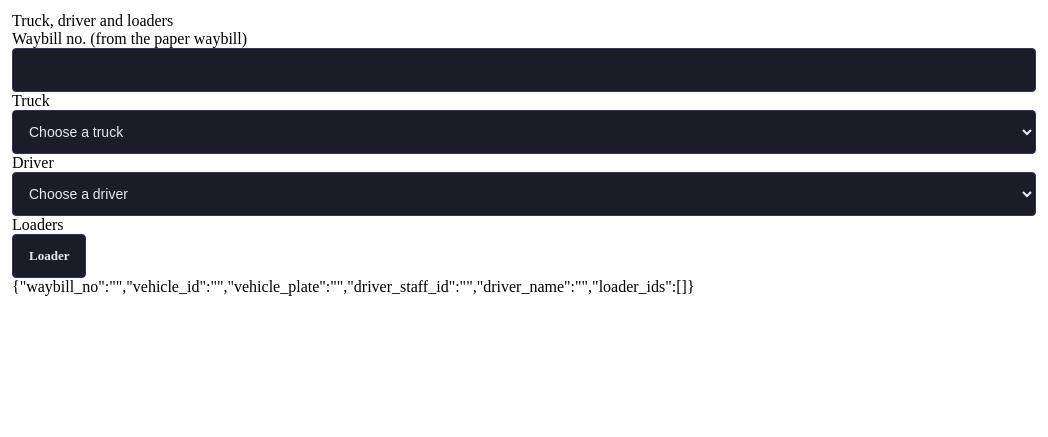
Scenario: preselects fleet driver, supports typed values and toggles loader chips
This screenshot has width=1048, height=437.
Step 1. Select "ABC" in the dropdown labelled "Truck" → x=524, y=132, box x1=12 y1=110 x2=1036 y2=154
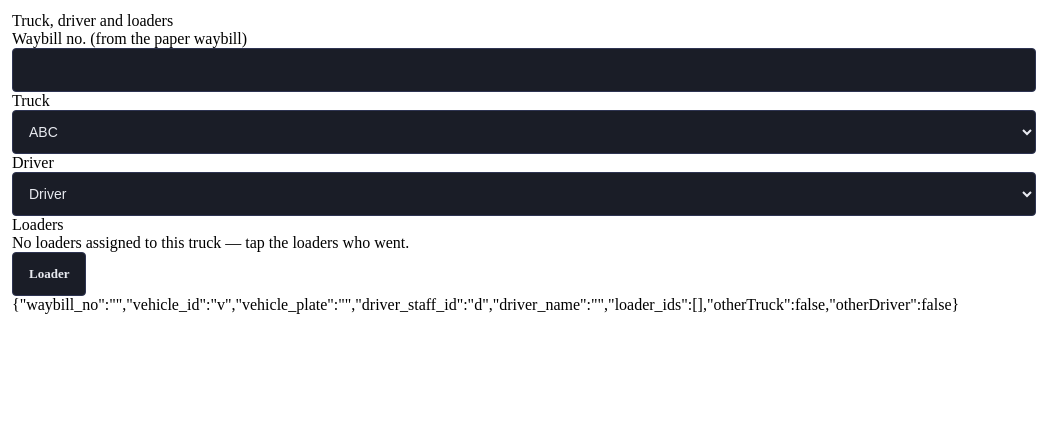
Now the dropdown labelled "Driver" shows "Driver", box x1=12 y1=172 x2=1036 y2=216
Step 2. Click the button "Loader" → x=49, y=274, box x1=12 y1=252 x2=86 y2=296
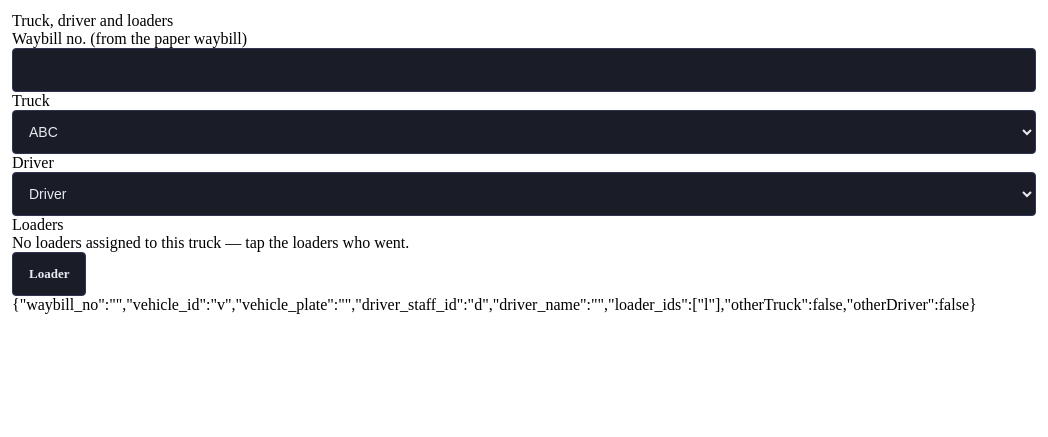
Step 3. Select "Other truck (type plate)" in the dropdown labelled "Truck" → x=524, y=132, box x1=12 y1=110 x2=1036 y2=154
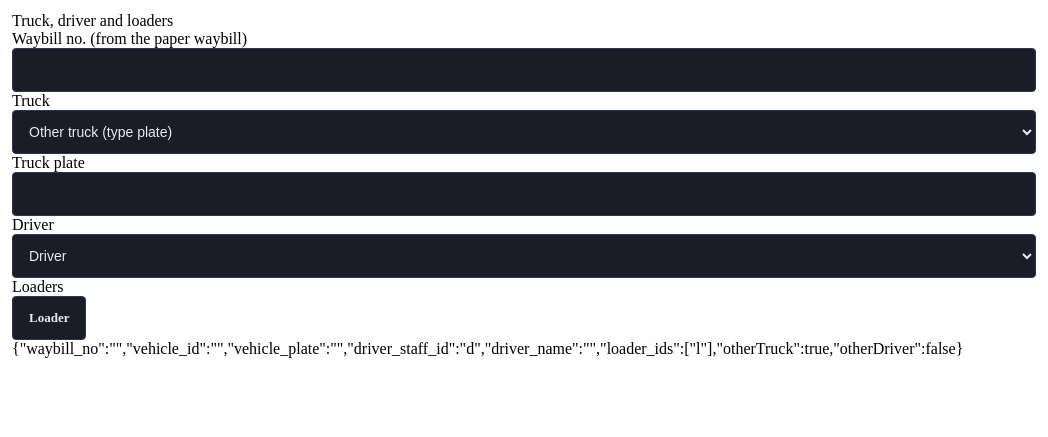
Step 4. Type "XYZ" into the field labelled "Truck plate" → x=524, y=194, box x1=12 y1=172 x2=1036 y2=216
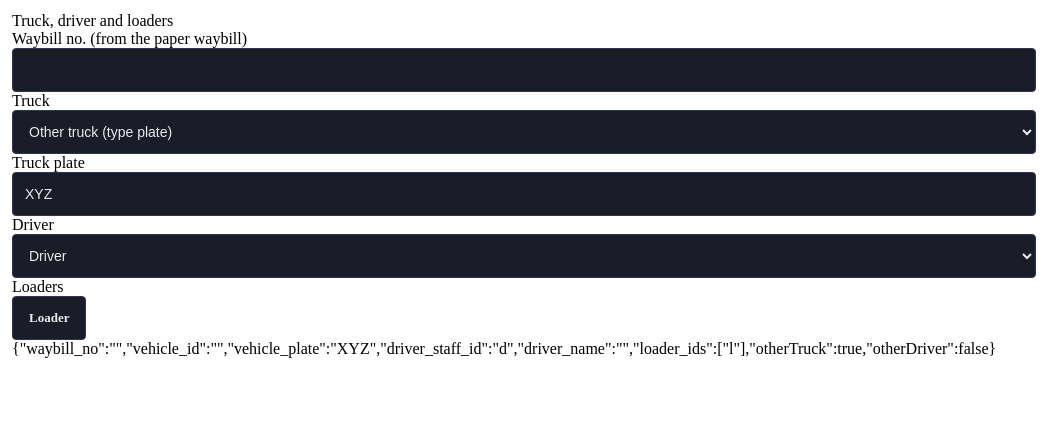
Step 5. Select "Other driver (type name)" in the dropdown labelled "Driver" → x=524, y=256, box x1=12 y1=234 x2=1036 y2=278
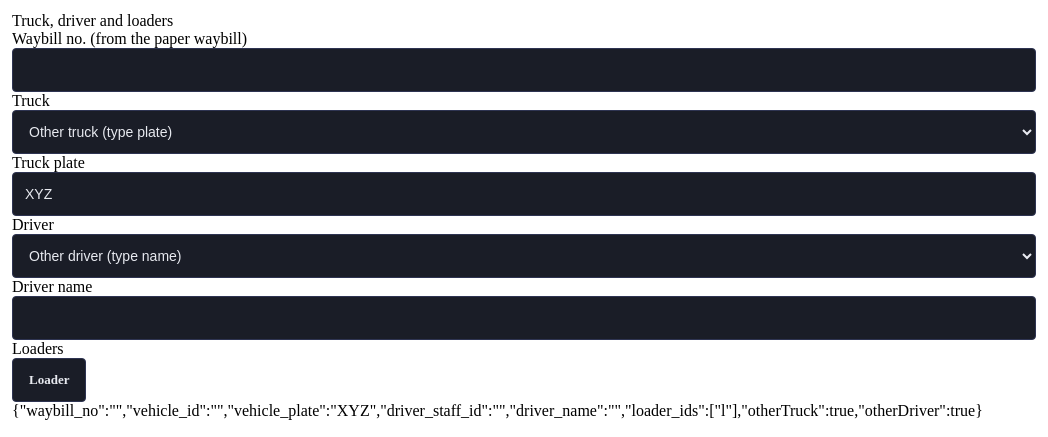
Step 6. Type "Guest" into the field labelled "Driver name" → x=524, y=318, box x1=12 y1=296 x2=1036 y2=340
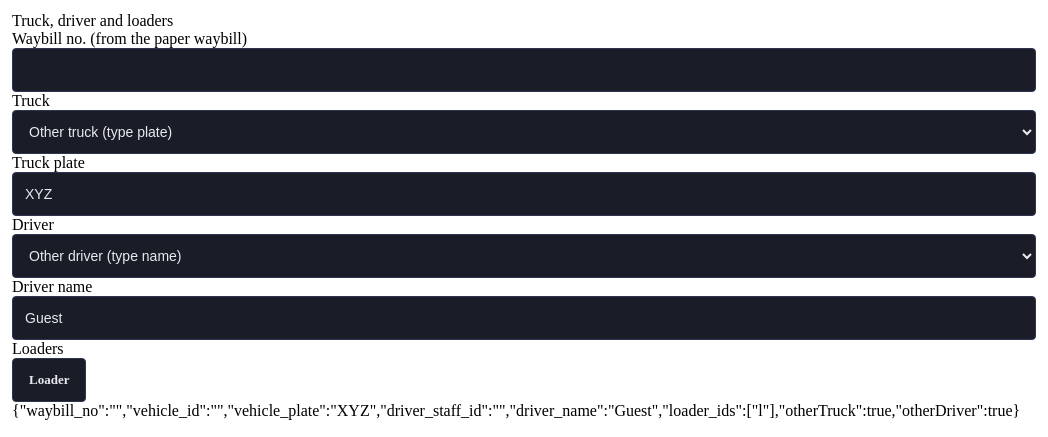
Now the text "XYZ" is shown, box x1=12 y1=402 x2=1020 y2=419
Now the text "Guest" is shown, box x1=12 y1=402 x2=1020 y2=419
